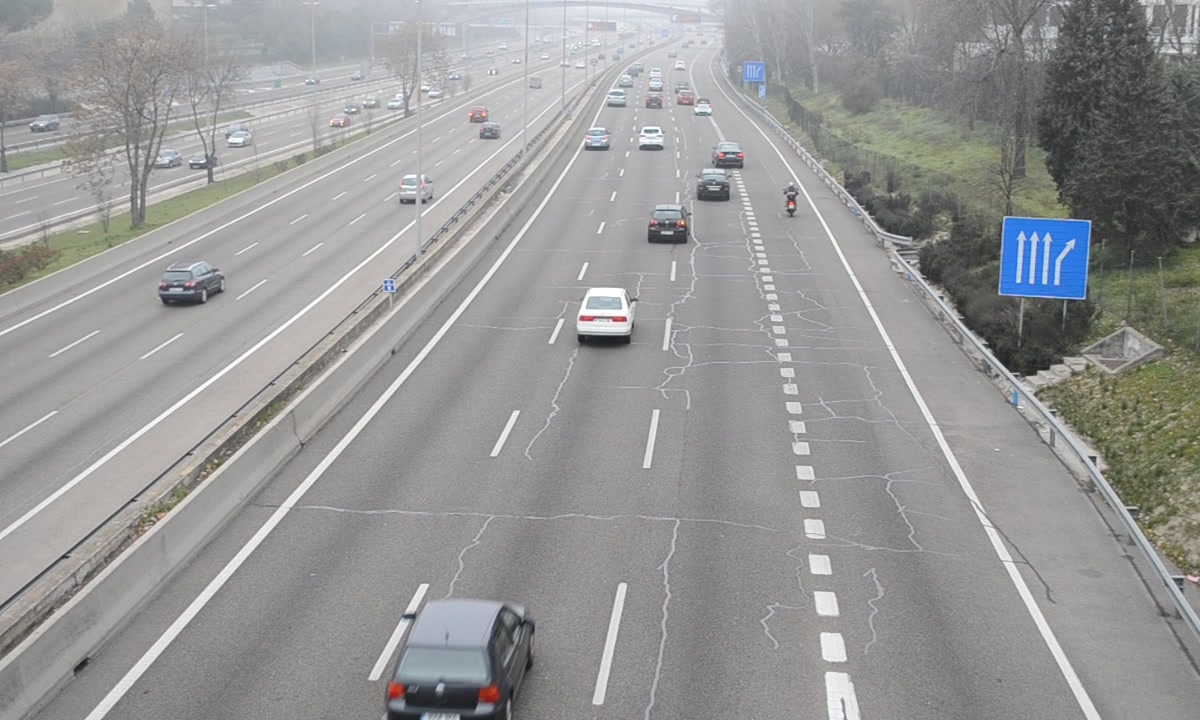car: (384, 598, 531, 720), (578, 285, 637, 336), (648, 205, 691, 244), (697, 169, 731, 201), (714, 141, 747, 168), (638, 125, 666, 150), (583, 127, 610, 151)
motorcycle: (784, 182, 802, 219)
